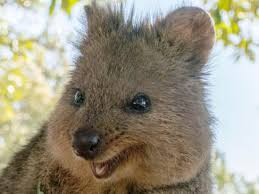quokka: (0, 5, 217, 194)
